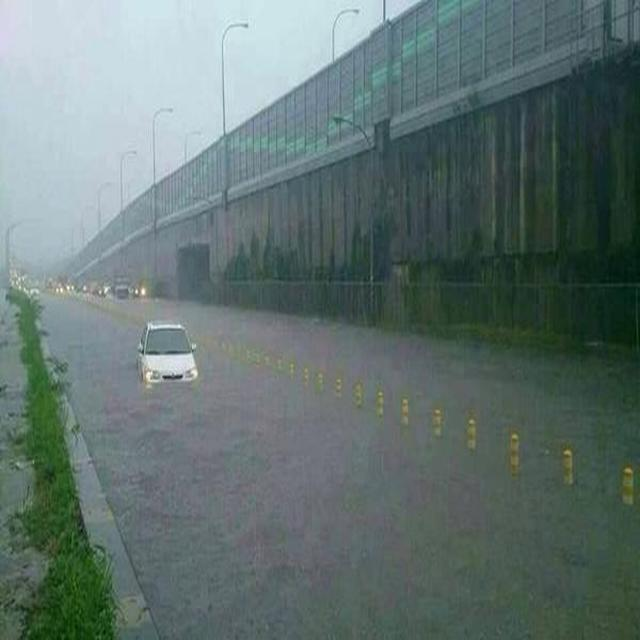Car-RiskLevel3: (137, 314, 203, 393)
